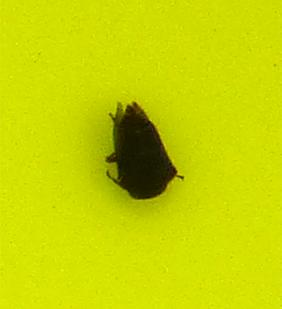Hemiptera: (100, 100, 182, 209)
